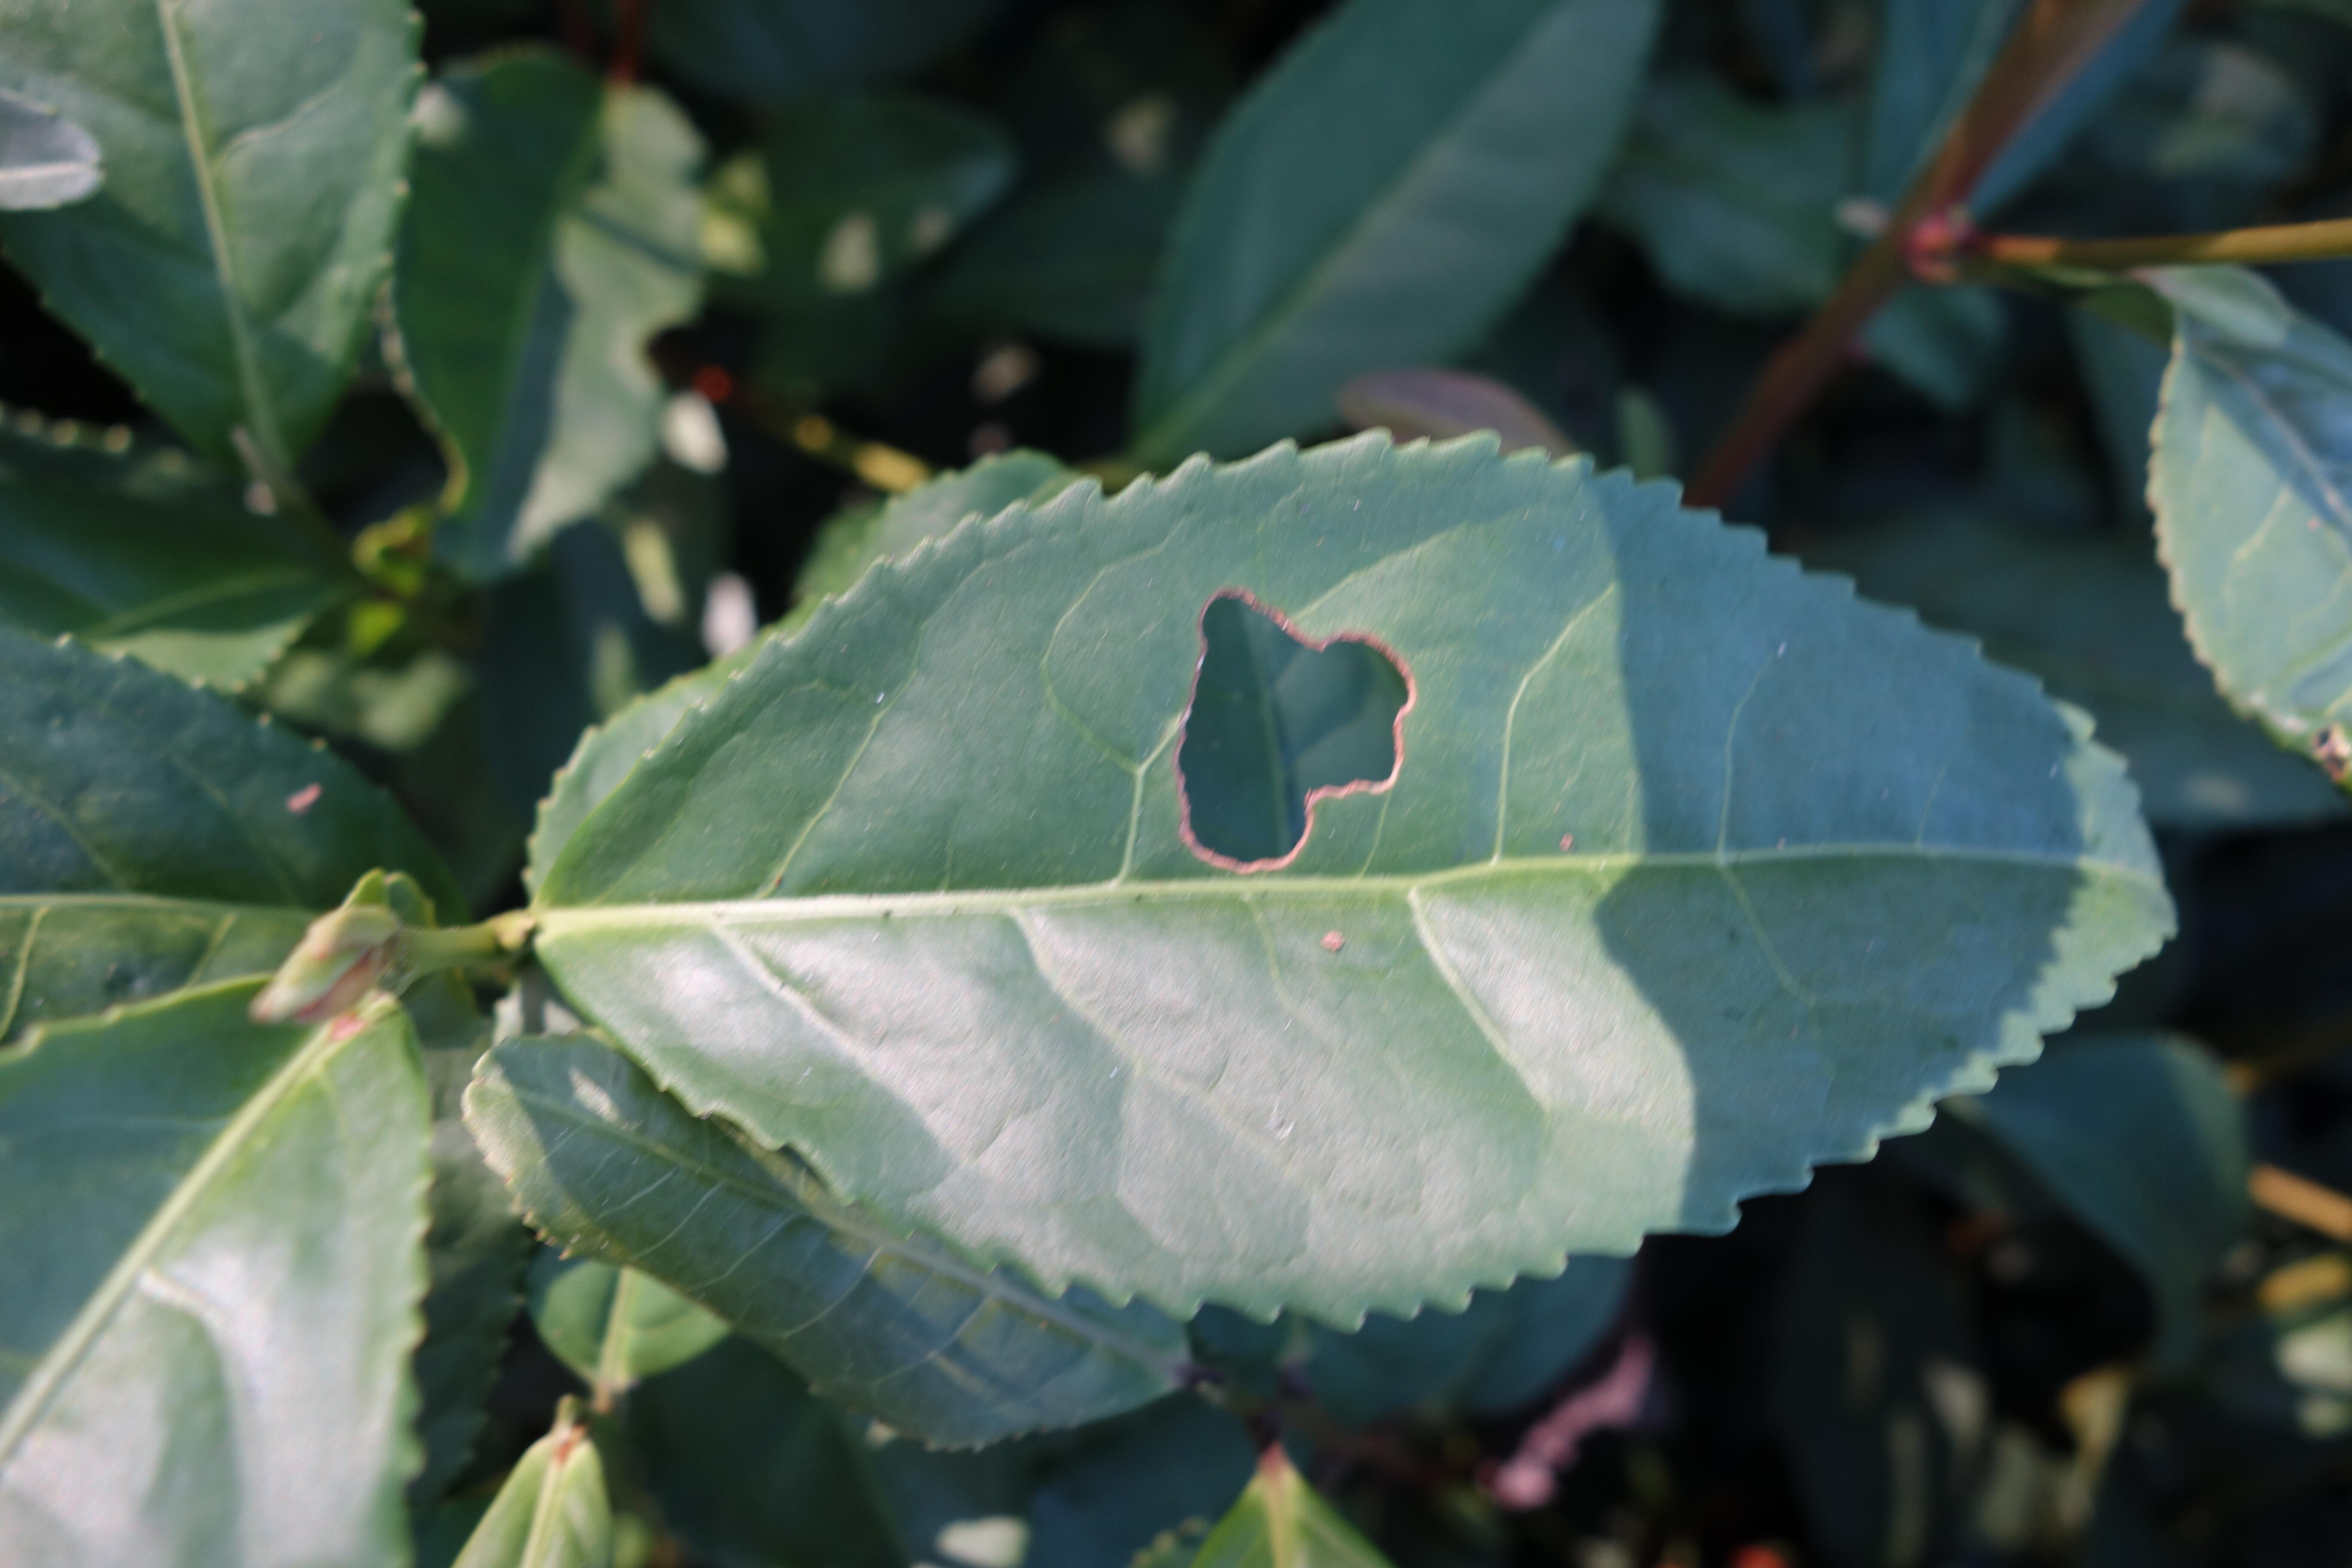chihuo_low: (537, 425, 2177, 1335)
